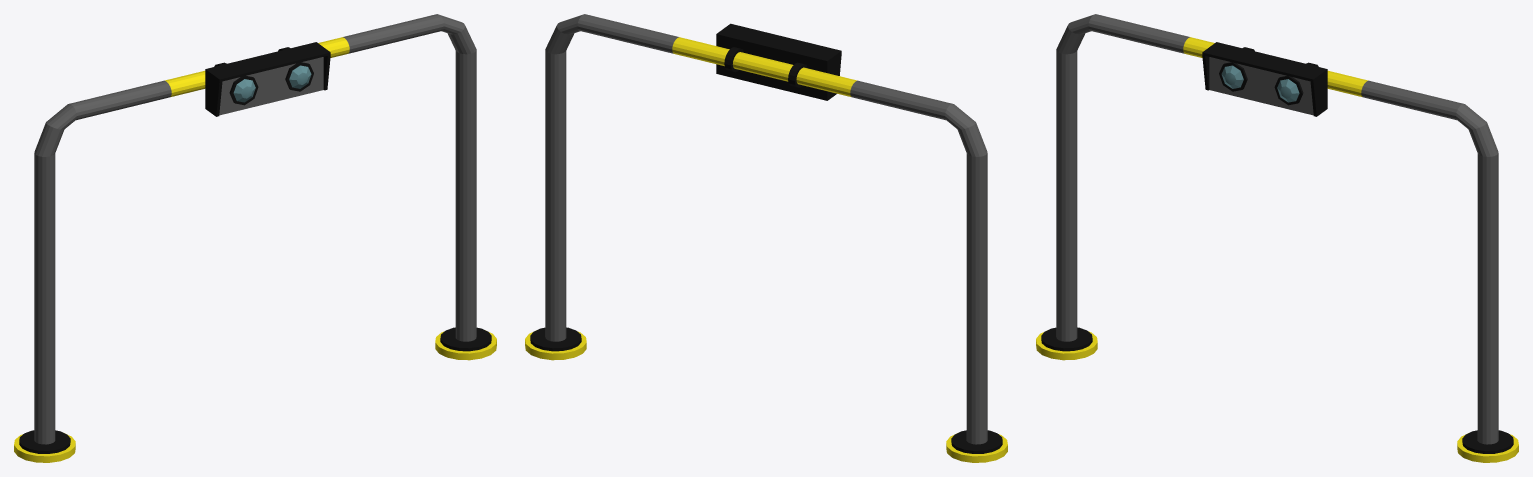
File: partida.FBX
The picture shows the model from 3 angles, left to right: view 1: azimuth 30°, elevation 25°; view 2: azimuth 150°, elevation 25°; view 3: azimuth 330°, elevation 25°; orthographic projection.
Visible parts, largest first — view 1: Cylinder001, Box001; view 2: Cylinder001, Box001; view 3: Cylinder001, Box001.
Boxes of the visible parts, bbox=[...] form: Cylinder001: bbox=[14, 14, 496, 462]; Box001: bbox=[205, 42, 330, 116]; Cylinder001: bbox=[525, 14, 1007, 462]; Box001: bbox=[716, 23, 841, 100]; Cylinder001: bbox=[1036, 14, 1518, 462]; Box001: bbox=[1202, 42, 1327, 116].
Bounding box in the file's own units: 120 × 84 × 15.75.
